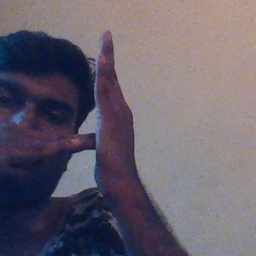Z: (23, 27, 147, 197)
